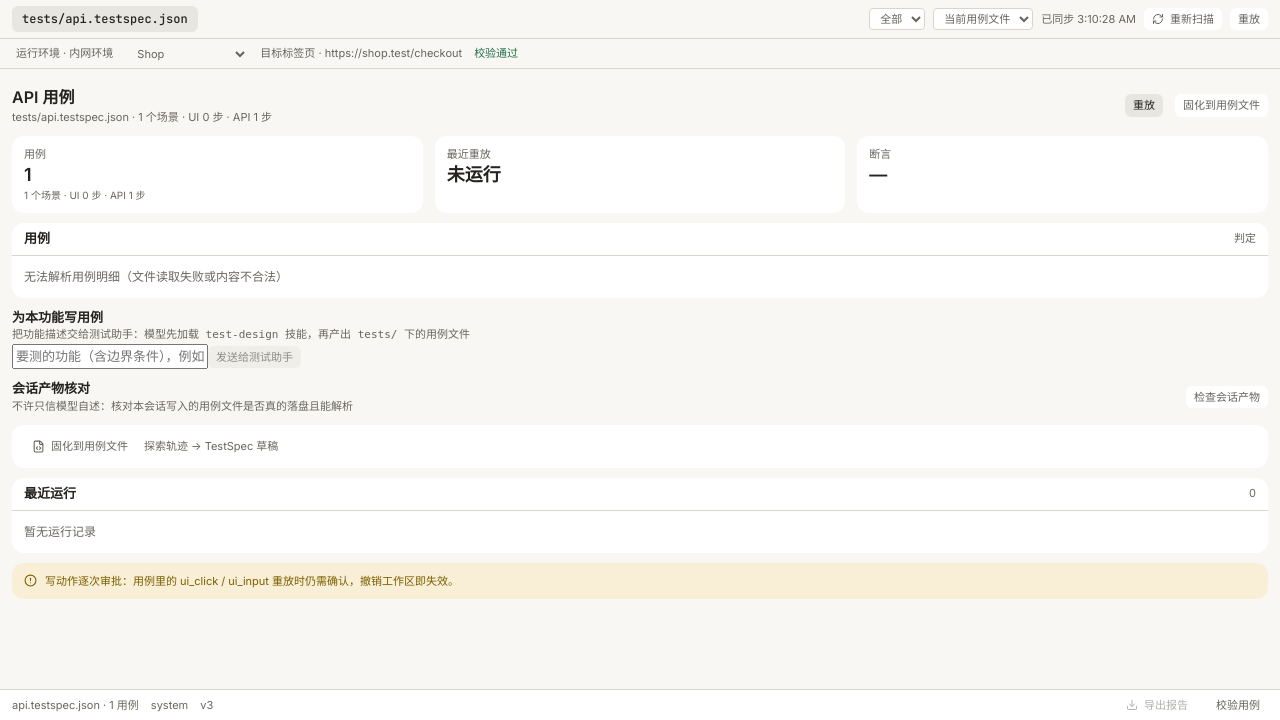
Test: TestingView run flow › blocks the run when the selected environment is not ready and shows the probe reason
The image size is (1280, 720).
Click the button "重放" in the row of "已同步 3:10:28 AM": (1249, 19) [1230,8,1268,30]
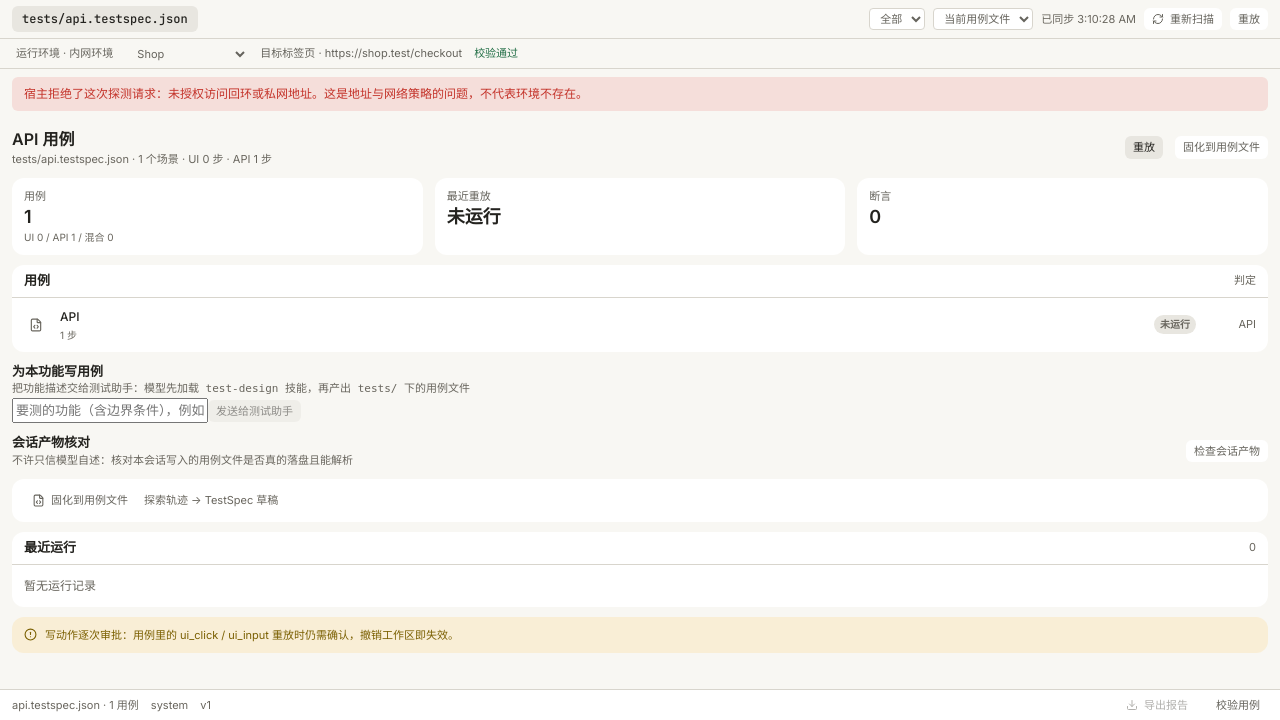
Expected: the message shows "未授权访问回环或私网地址", [24,86,588,101]
